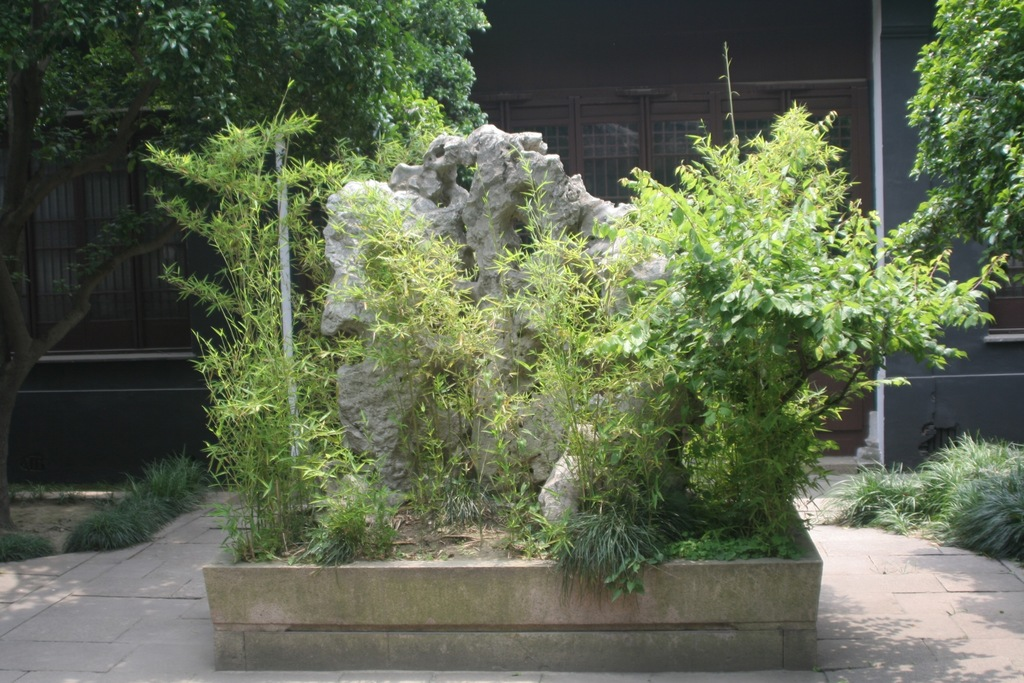Tree: (0, 0, 491, 531), (575, 45, 1009, 523), (887, 0, 1024, 285)
